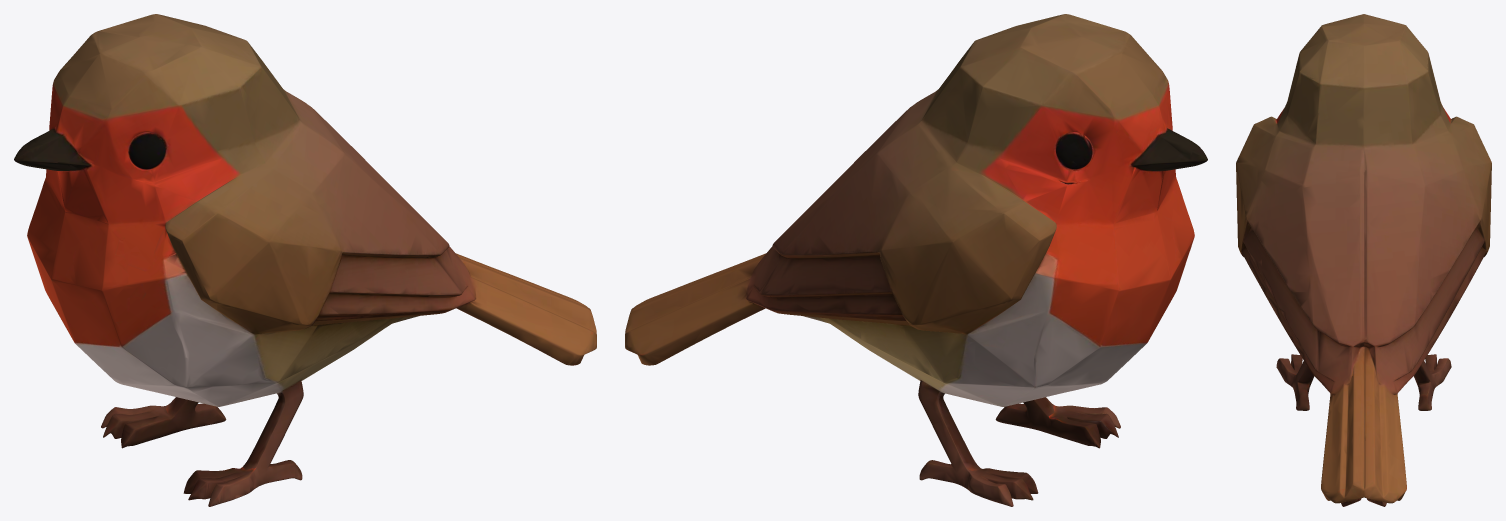
File: songbird.glb
3 views of the same model, side by side, from view 1: azimuth 30°, elevation 25°; view 2: azimuth 150°, elevation 25°; view 3: azimuth 270°, elevation 25° (orthographic). The views are drawn at different scales.
Parts seen in each view (by area): view 1: node_0; view 2: node_0; view 3: node_0.
Part boxes in pixels (x1=…): node_0: x1=14, y1=14, x2=596, y2=506; node_0: x1=625, y1=14, x2=1207, y2=506; node_0: x1=1236, y1=14, x2=1491, y2=506.
Size of the model in its own units: 1.04 by 0.7633 by 0.5176.
1 material, 1 textured.
